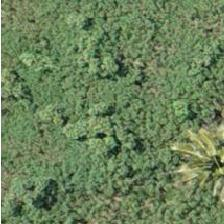coconut_tree: (163, 128, 223, 218)
